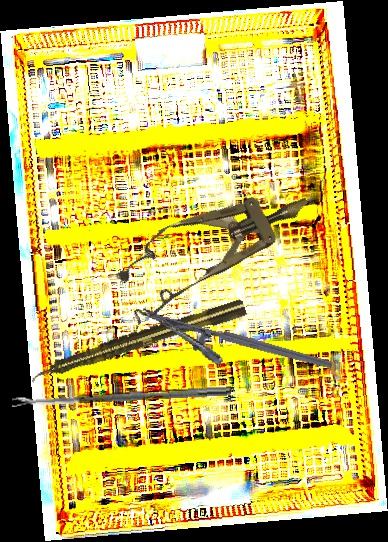Handpiece: (27, 296, 248, 387)
Needle Holder: (133, 306, 333, 396)
Speculum: (105, 166, 324, 326)
Surgical Spoon: (11, 385, 232, 407)
